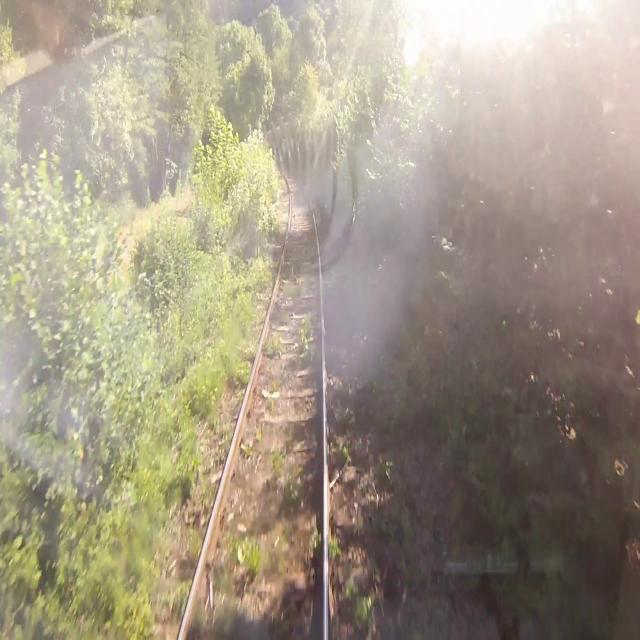Plant: (101, 250, 280, 639), (190, 521, 298, 639), (326, 340, 368, 463), (342, 551, 387, 634), (271, 446, 304, 506), (259, 178, 286, 249), (159, 579, 192, 618), (295, 310, 314, 366), (262, 330, 284, 361), (329, 537, 341, 561)
